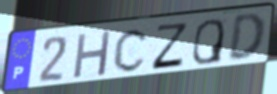2: (36, 35, 69, 85)
C: (111, 27, 151, 75)
D: (226, 11, 267, 63)
H: (71, 28, 114, 81)
Q: (190, 17, 226, 67)
Z: (149, 22, 190, 71)
